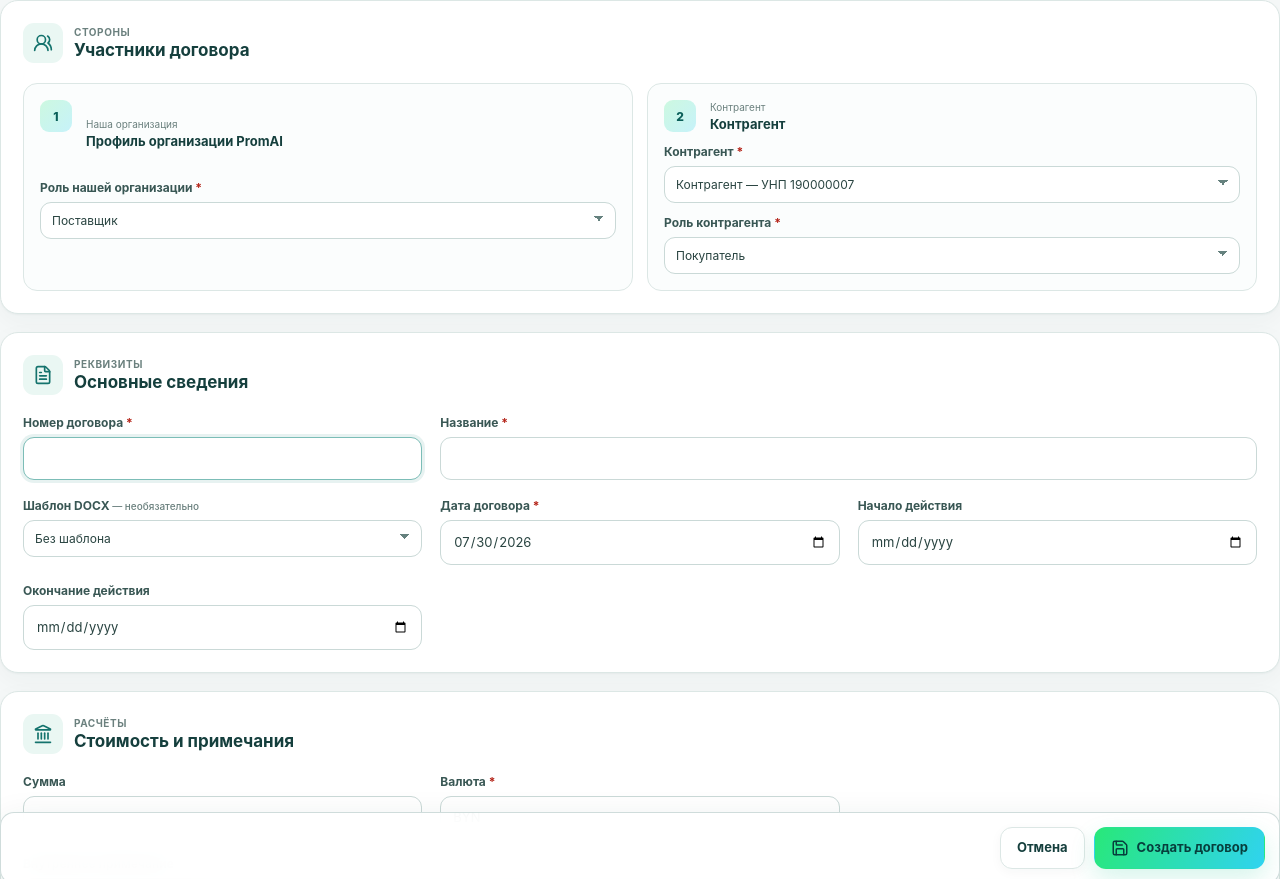
Test case: ContractForm › не принимает период с окончанием раньше начала
The width and height of the screenshot is (1280, 879).
In the field labelled "Номер договора *": (223, 458) [23,437,422,480], type "Д-TEST-004"
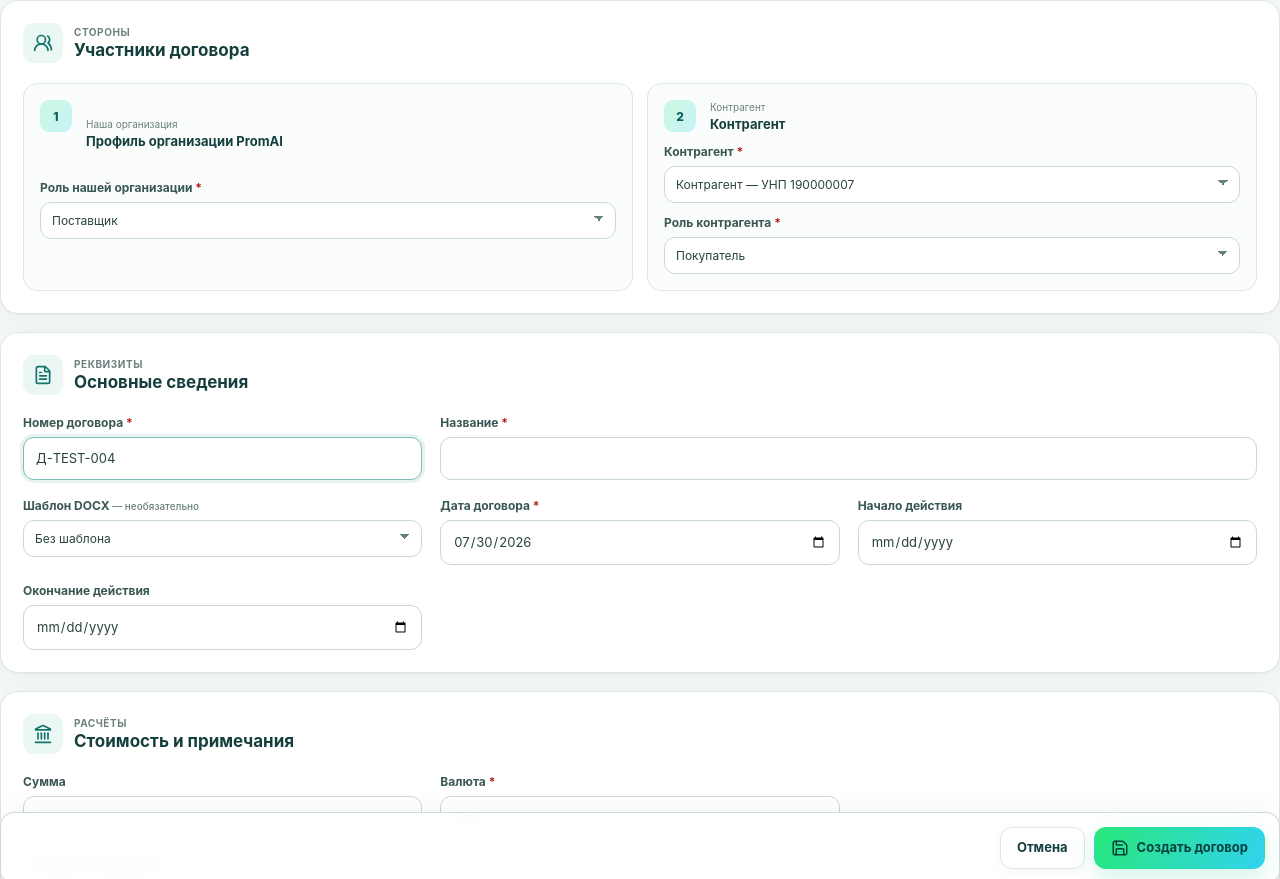
In the field labelled "Название *": (849, 458) [440,437,1257,480], type "Некорректный период"
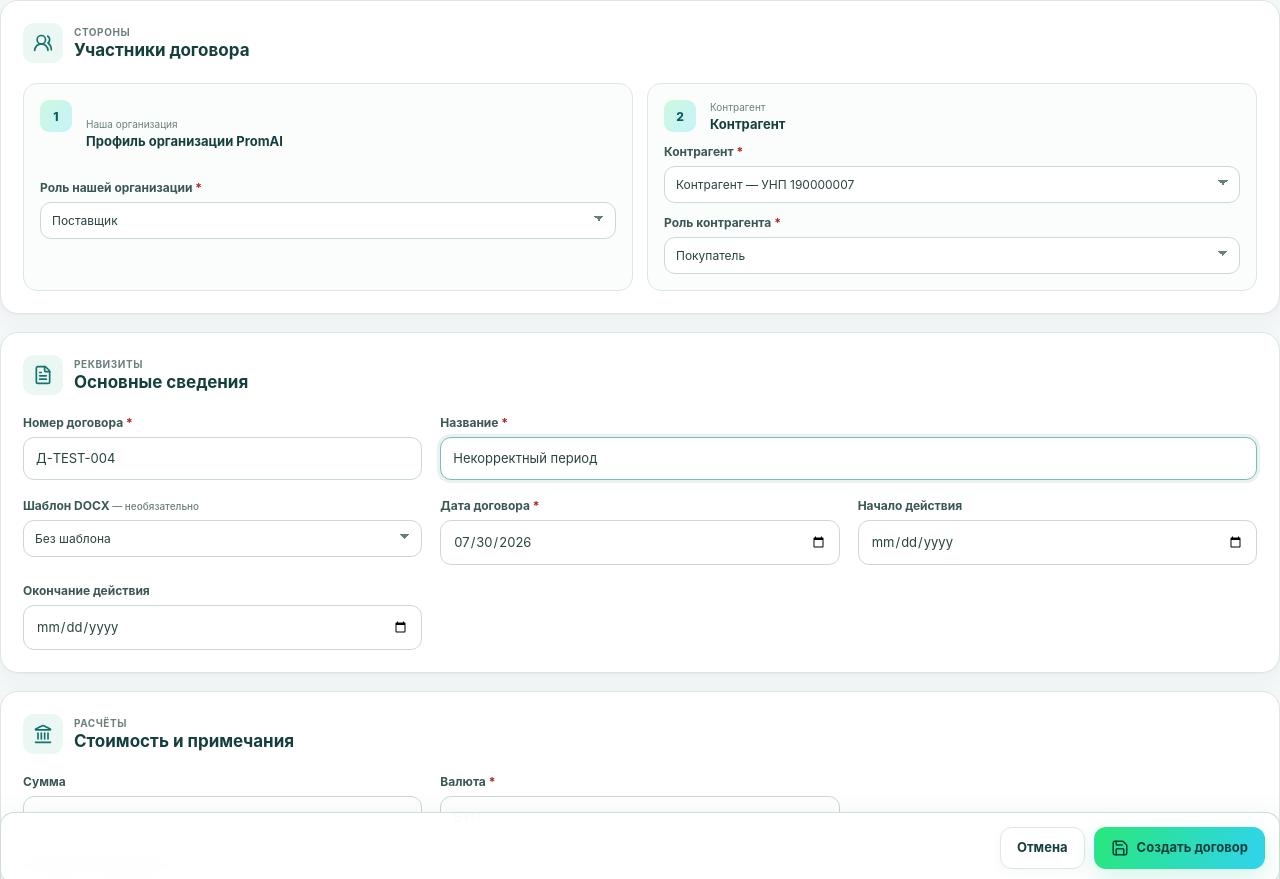
In the date field labelled "Начало действия": (1057, 542) [858,520,1257,565], type "2026-08-10"
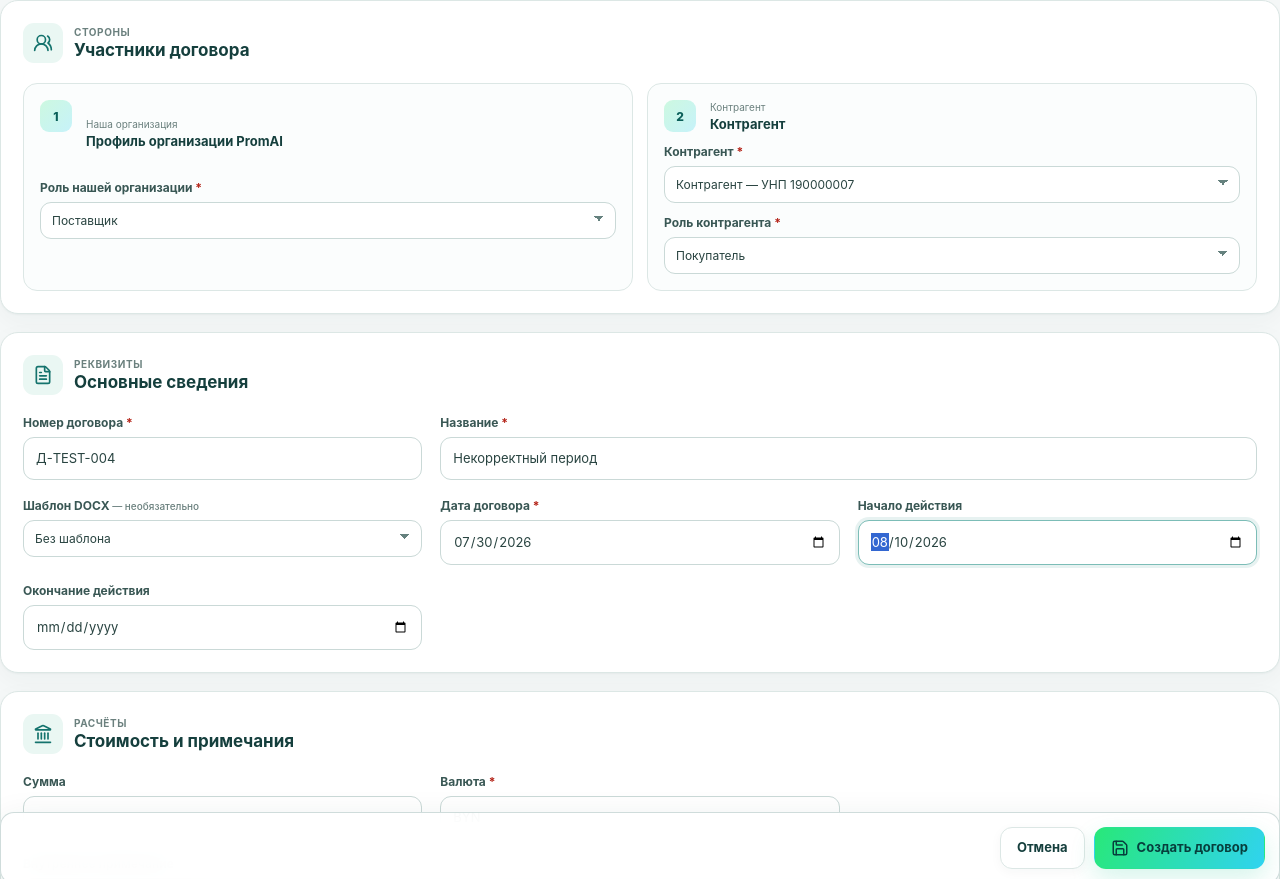
In the date field labelled "Окончание действия": (223, 627) [23,605,422,650], type "2026-08-01"
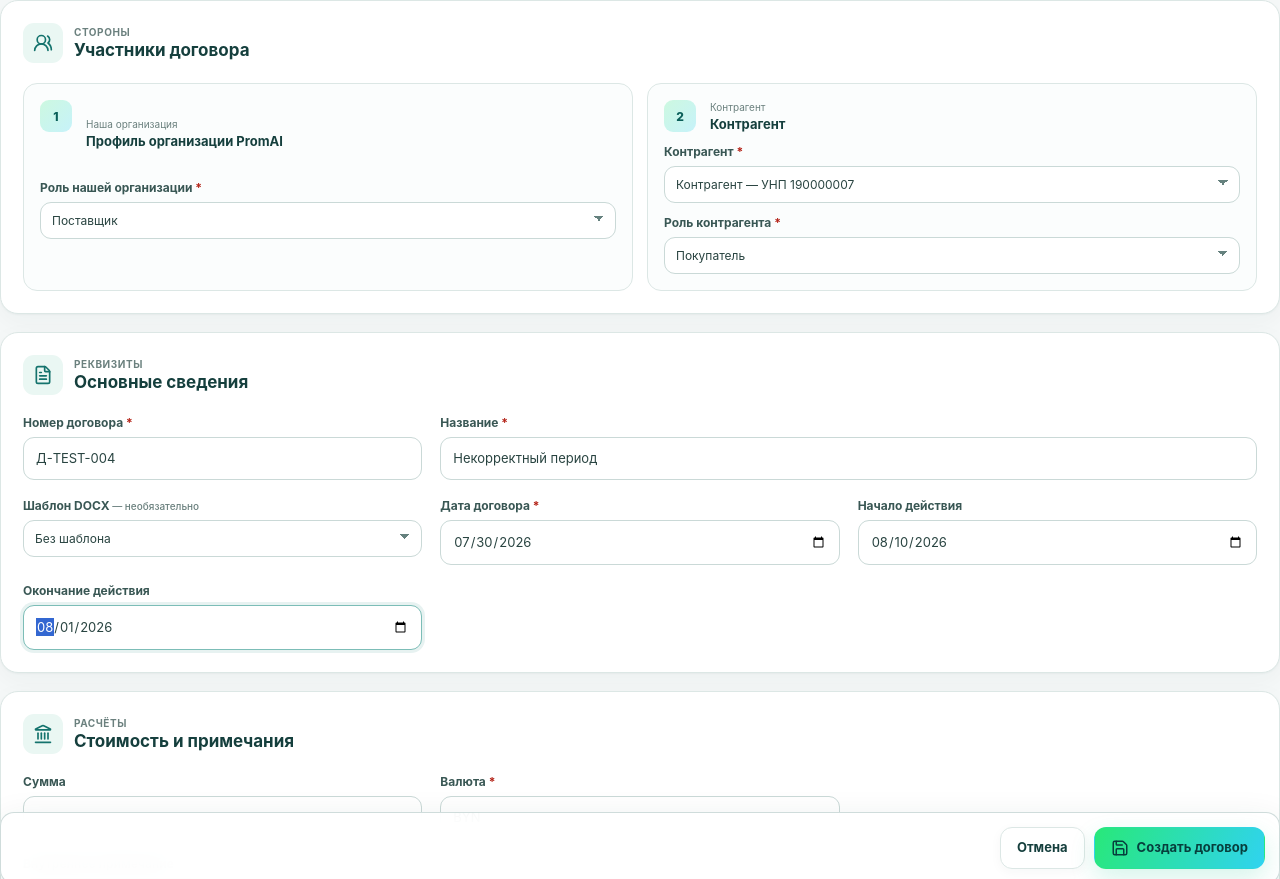
Click the button "Создать договор": click(1179, 848) [1094,827,1265,869]
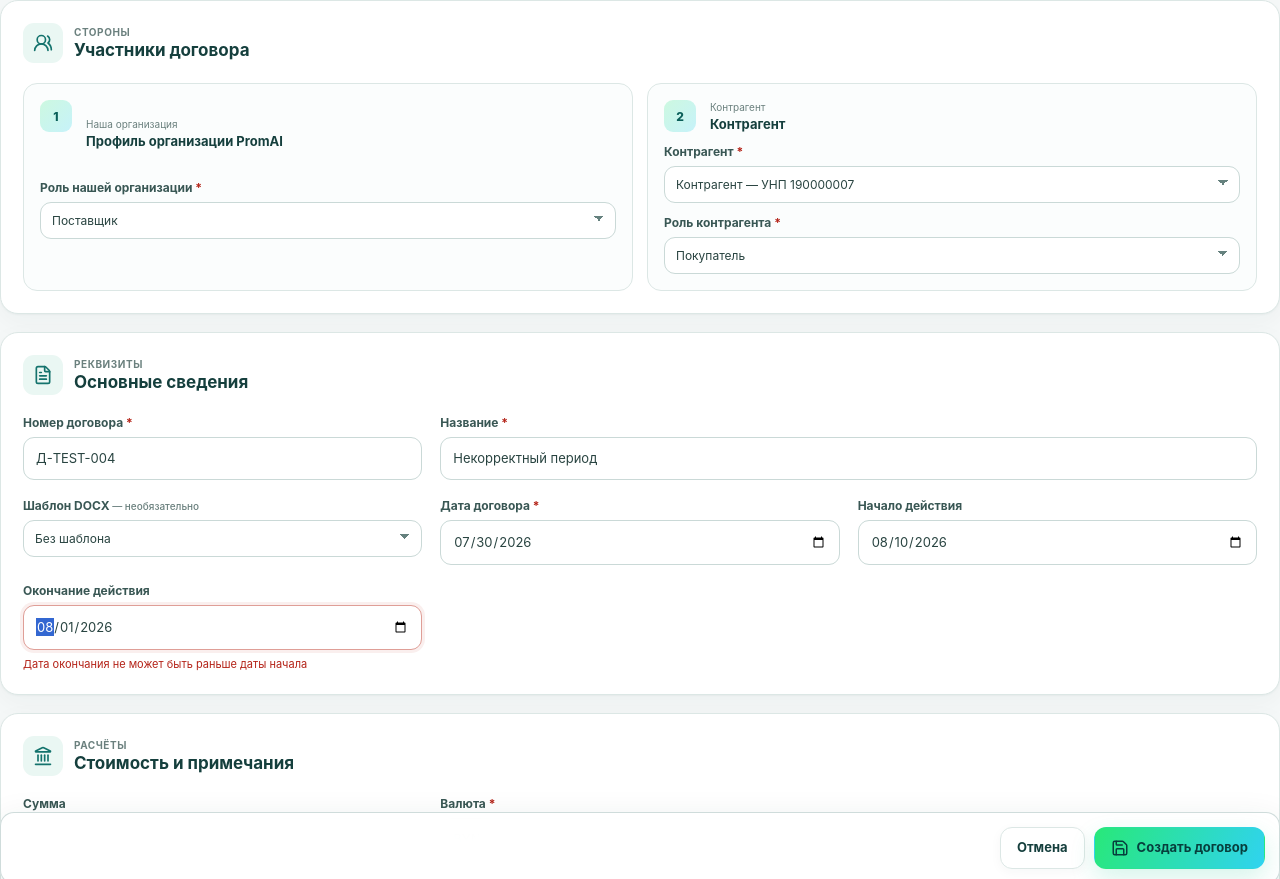
Check: the text "Дата окончания не может быть раньше даты начала" is shown, box [23,656,307,670]
